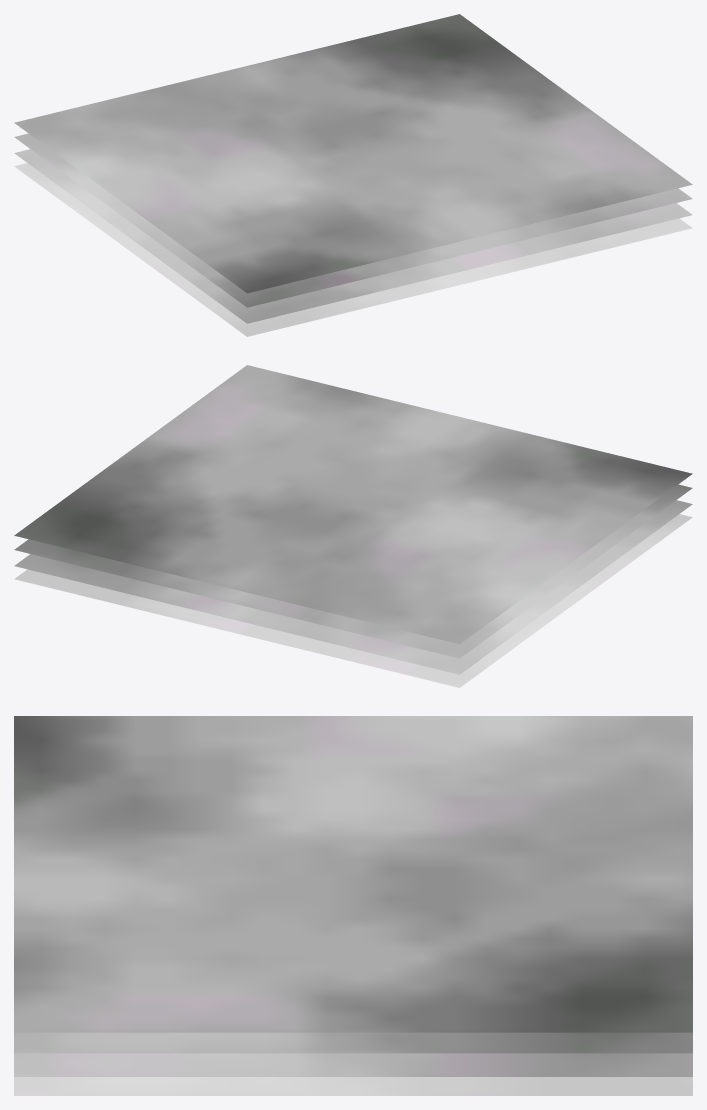
The model's file is SWORDLIGHT20_MAINCAVERNCLOUDS09.fbx.
The picture shows the model from 3 angles, top to bottom: view 1: azimuth 30°, elevation 25°; view 2: azimuth 150°, elevation 25°; view 3: azimuth 270°, elevation 25°; orthographic projection. The views are drawn at different scales.
Visible parts, largest first — view 1: SWORDLIGHT20_MAINCAVERNCLOUDS09; view 2: SWORDLIGHT20_MAINCAVERNCLOUDS09; view 3: SWORDLIGHT20_MAINCAVERNCLOUDS09.
Part boxes in pixels (box(x1,y1,x2,y2)): SWORDLIGHT20_MAINCAVERNCLOUDS09: box(14, 14, 692, 336); SWORDLIGHT20_MAINCAVERNCLOUDS09: box(14, 365, 692, 687); SWORDLIGHT20_MAINCAVERNCLOUDS09: box(14, 716, 692, 1095).
Size of the model in its own units: 161490 by 15056 by 146334.
Materials: 4 (4 with a texture image).
